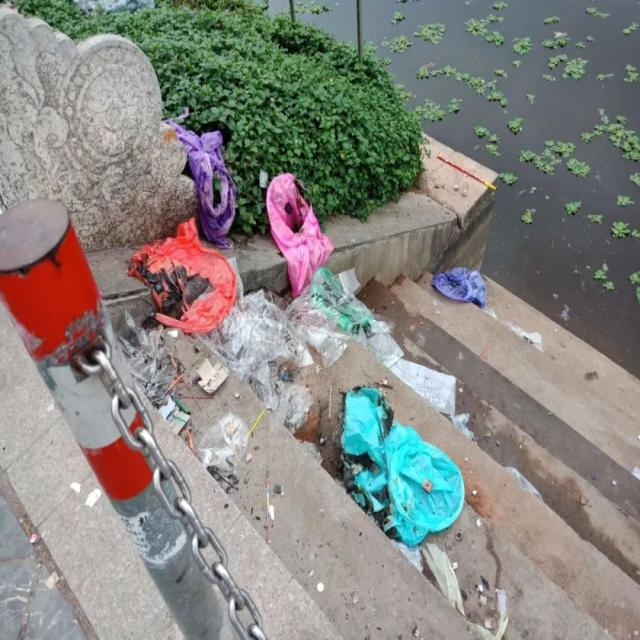dumping: (131, 84, 500, 575)
